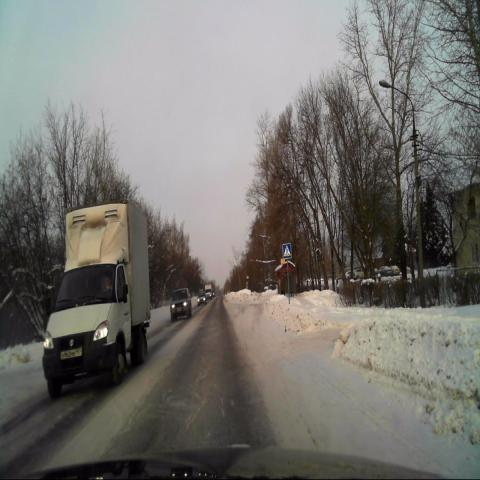5_19_1: (282, 243, 291, 259)
